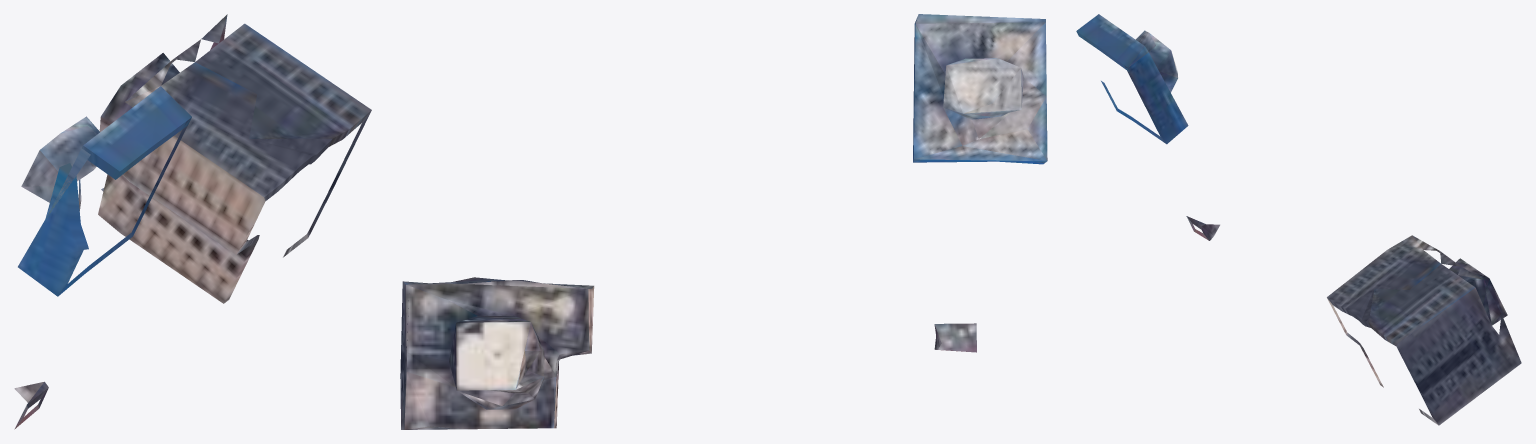
The picture shows the model from 3 angles, left to right: view 1: azimuth 30°, elevation 25°; view 2: azimuth 150°, elevation 25°; view 3: azimuth 270°, elevation 25°; orthographic projection. The views are drawn at different scales.
Size of the model in its own units: 104 by 74.26 by 113.
1 material, 1 textured.
